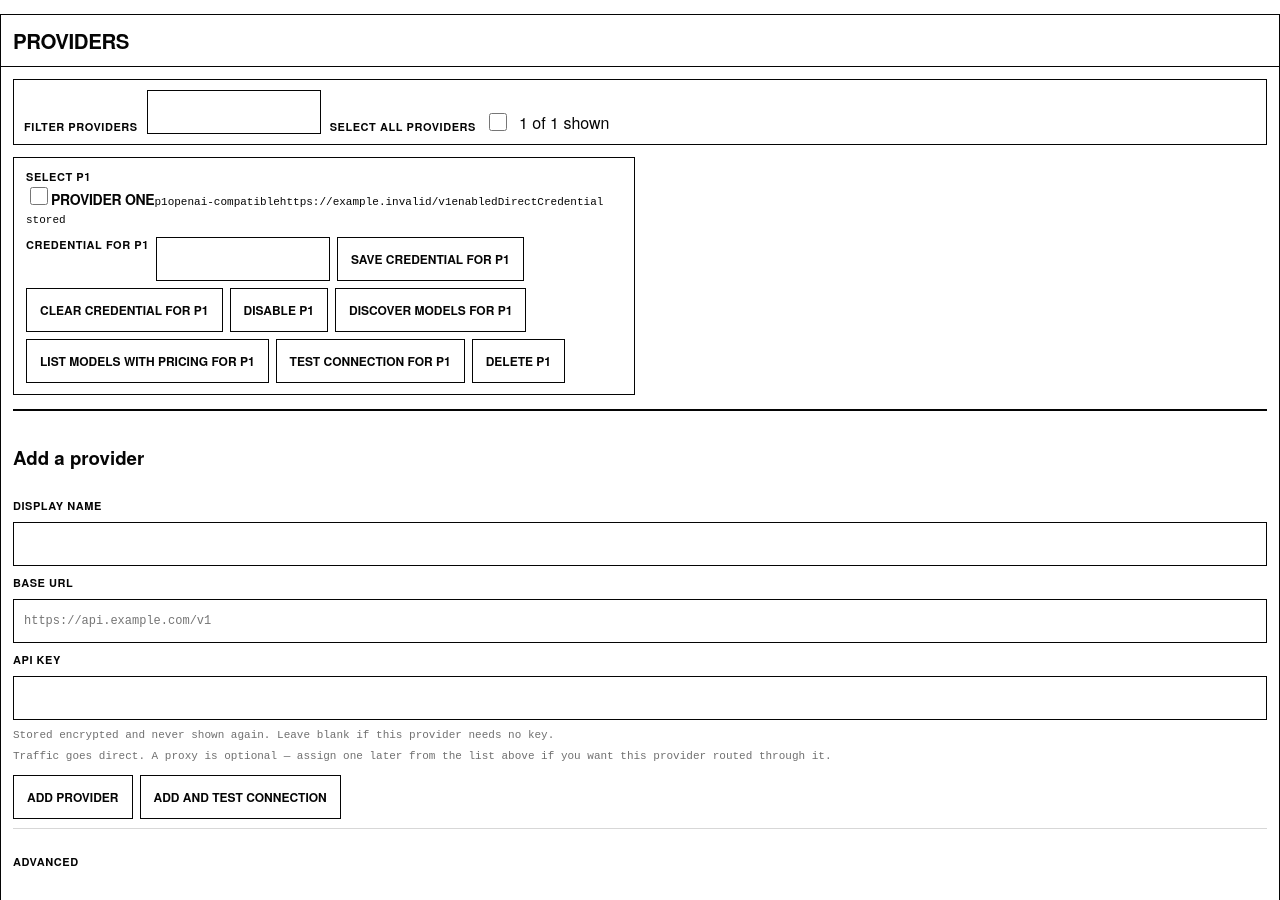
Test: free-first catalogue display › groups UNKNOWN with paid rather than with free
What coordinates should you click on to do the following:
click the button with test id "catalogue-p1"
I would click on:
 (147, 361)
Its box is x1=26 y1=339 x2=269 y2=383.
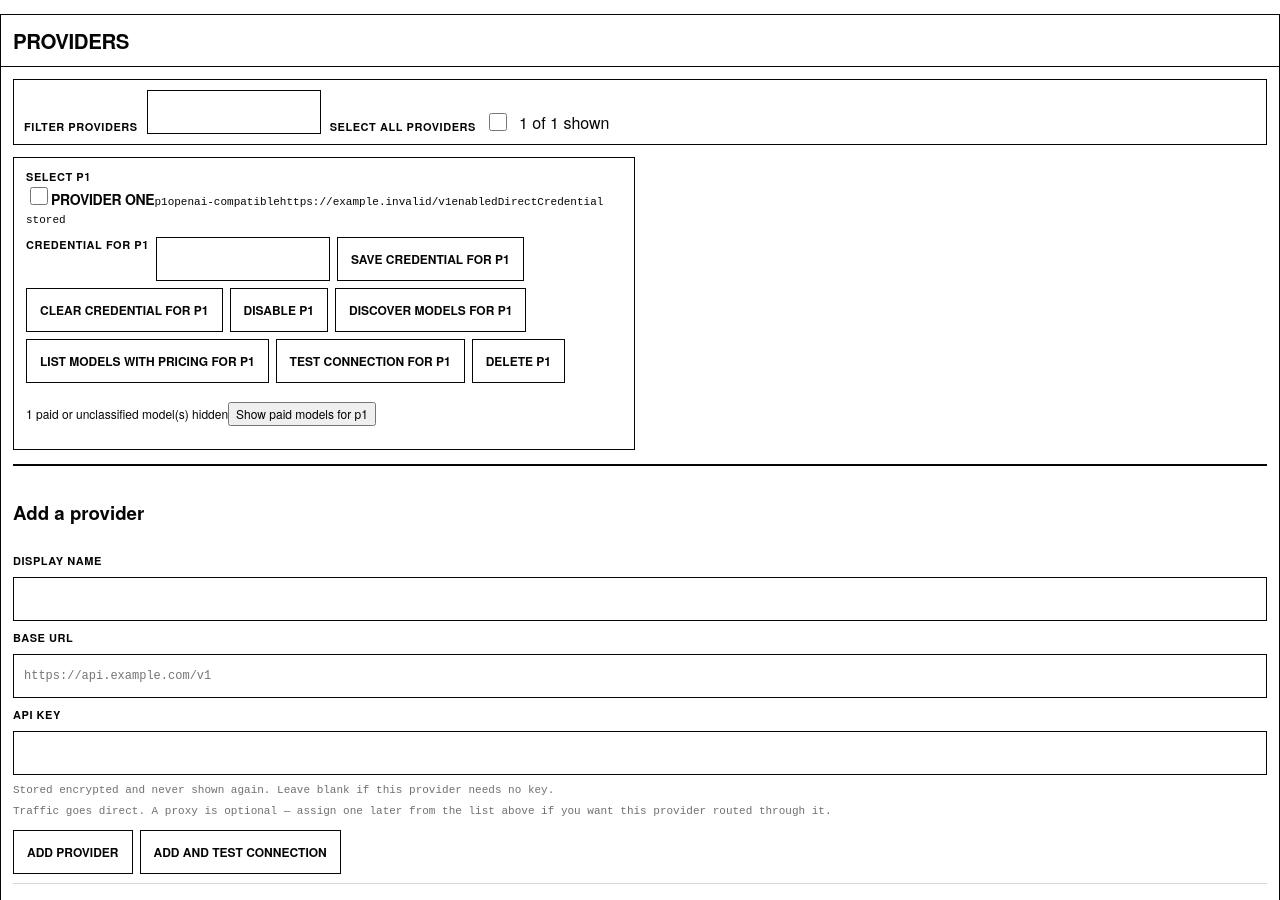
Now the element with test id "paid-hidden-count-p1" shows "1", box x1=26 y1=405 x2=228 y2=422
What coordinates should you click on to do the following:
click the button with test id "show-paid-p1"
I would click on:
 (302, 414)
Its box is x1=228 y1=402 x2=376 y2=426.
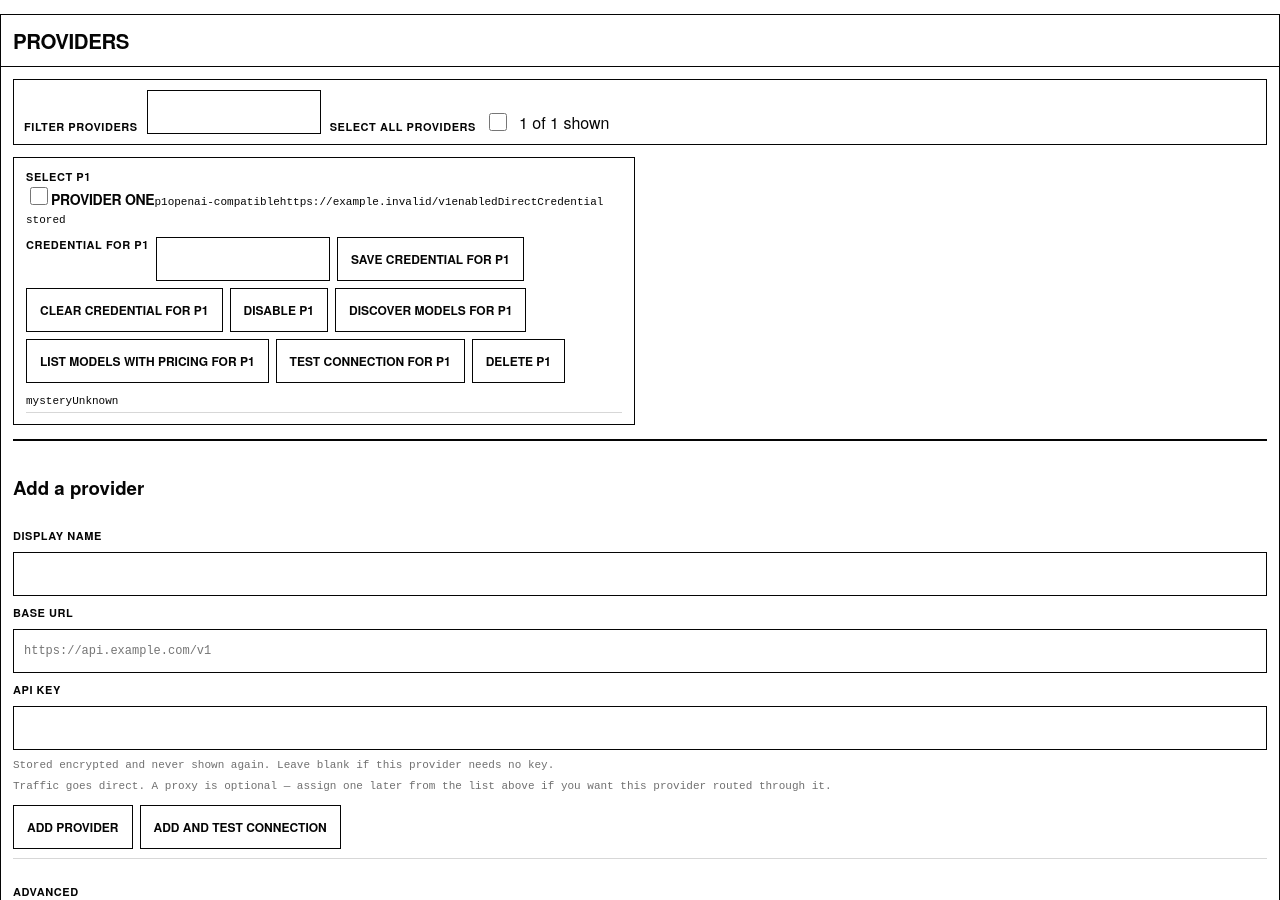
Now the list item with test id "model-mystery" shows "Unknown", box x1=72 y1=395 x2=118 y2=407
